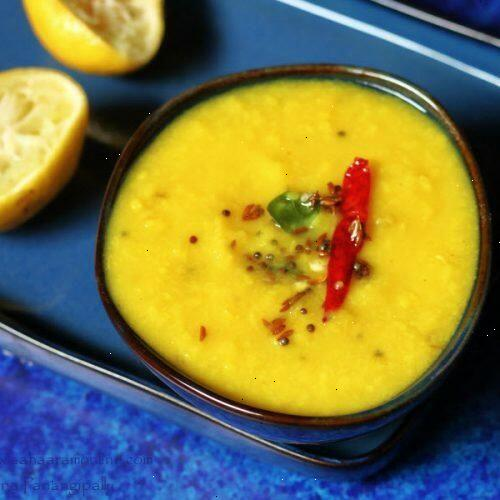daal: (117, 82, 471, 424)
